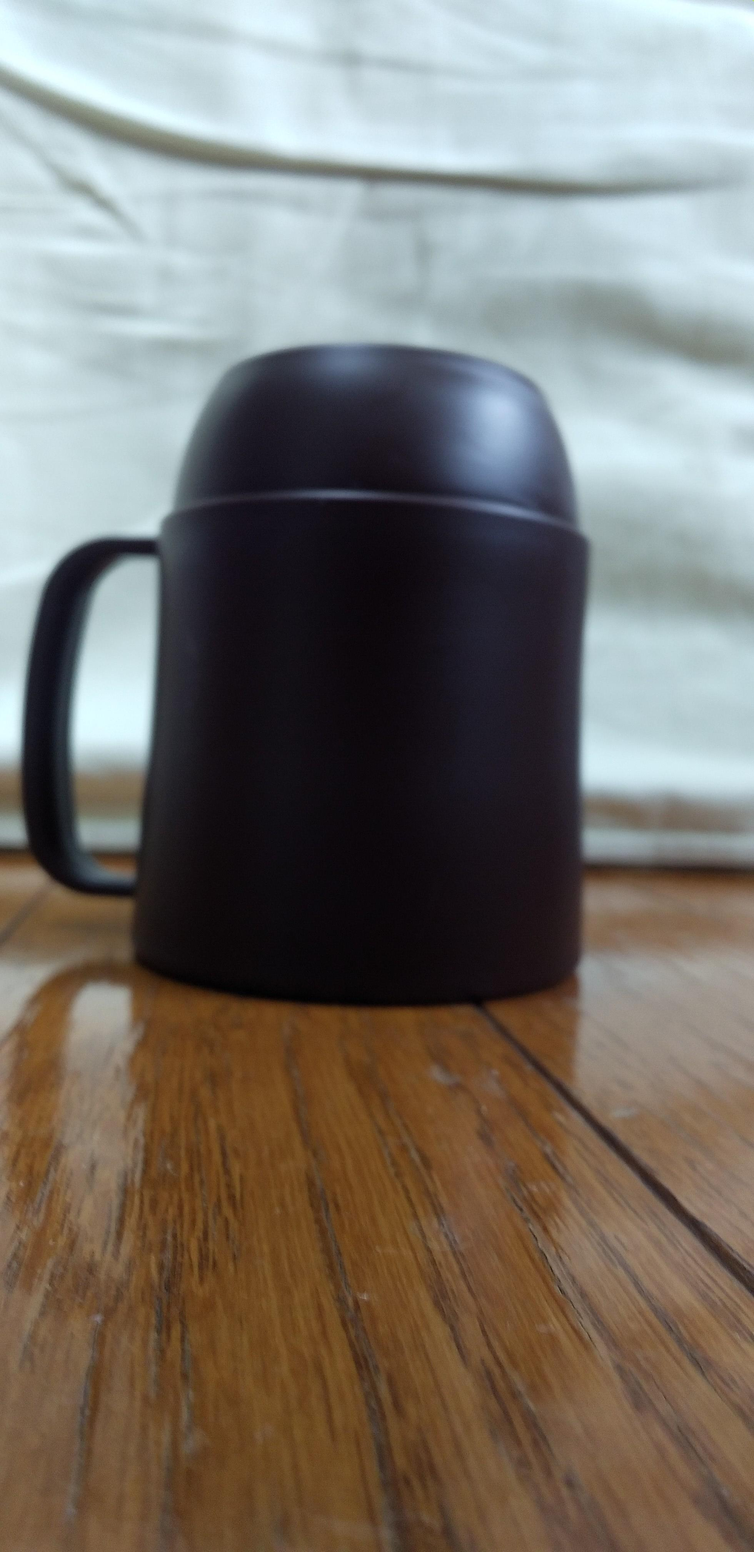mug-real100-3d100: (23, 346, 587, 1004)
